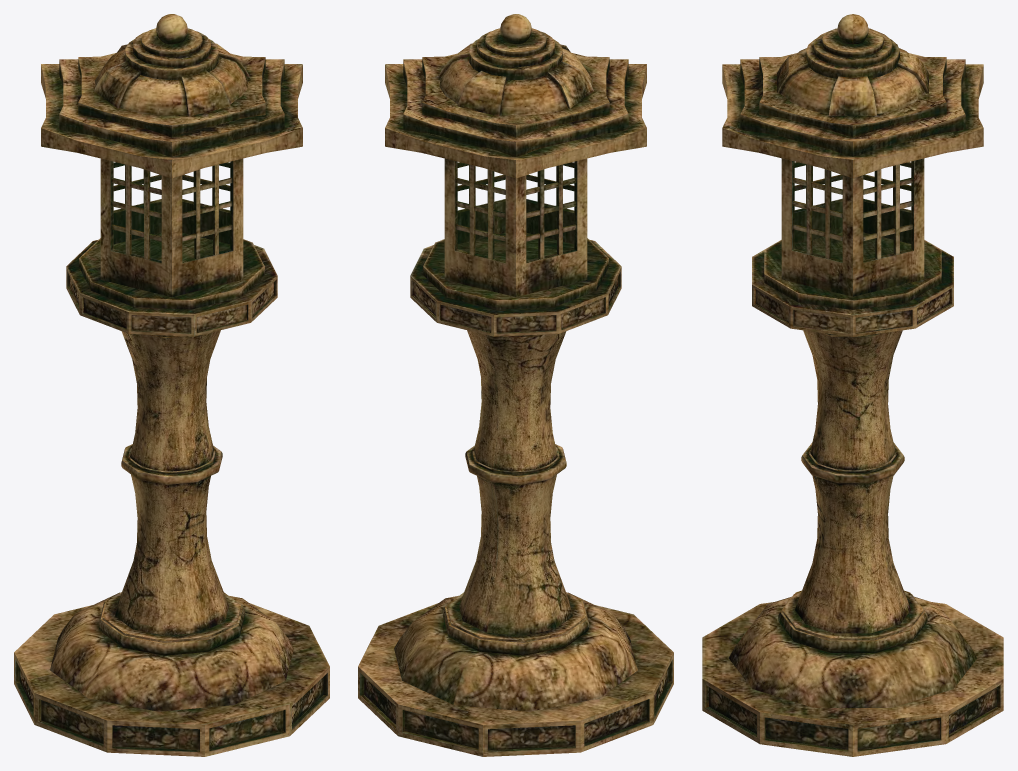
File: lantern.glb
The picture shows the model from 3 angles, left to right: view 1: azimuth 30°, elevation 25°; view 2: azimuth 150°, elevation 25°; view 3: azimuth 270°, elevation 25°; orthographic projection.
Parts seen in each view (by area): view 1: StoneLamp_LP; view 2: StoneLamp_LP; view 3: StoneLamp_LP.
Part boxes in pixels (x1=…): StoneLamp_LP: x1=14, y1=14, x2=329, y2=756; StoneLamp_LP: x1=358, y1=14, x2=673, y2=756; StoneLamp_LP: x1=702, y1=14, x2=1003, y2=756.
Size of the model in its own units: 0.5108 by 1.2 by 0.4858.
Materials: 1 (1 with a texture image).
